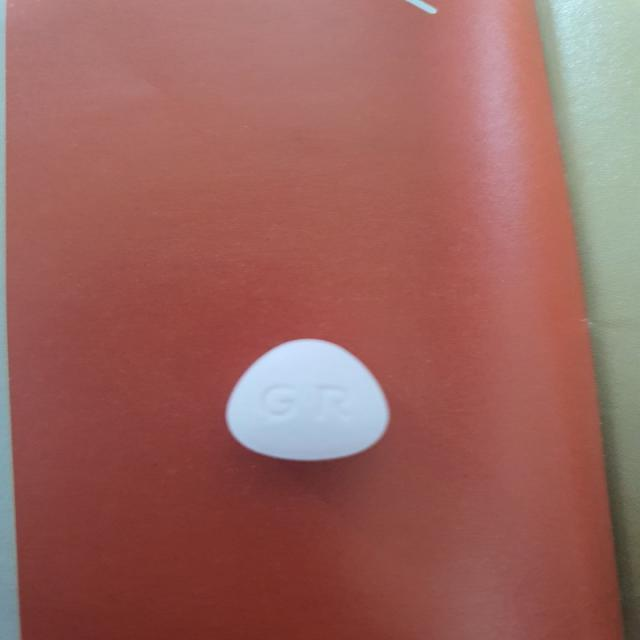pill: (212, 328, 420, 477)
